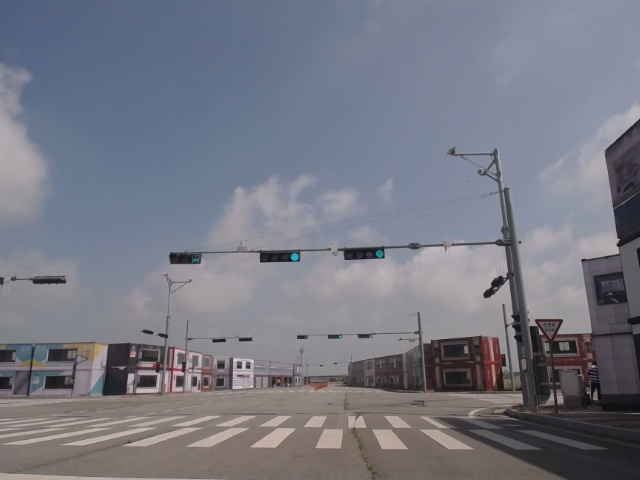straight_green_4: (261, 251, 300, 262), (344, 249, 385, 258)
